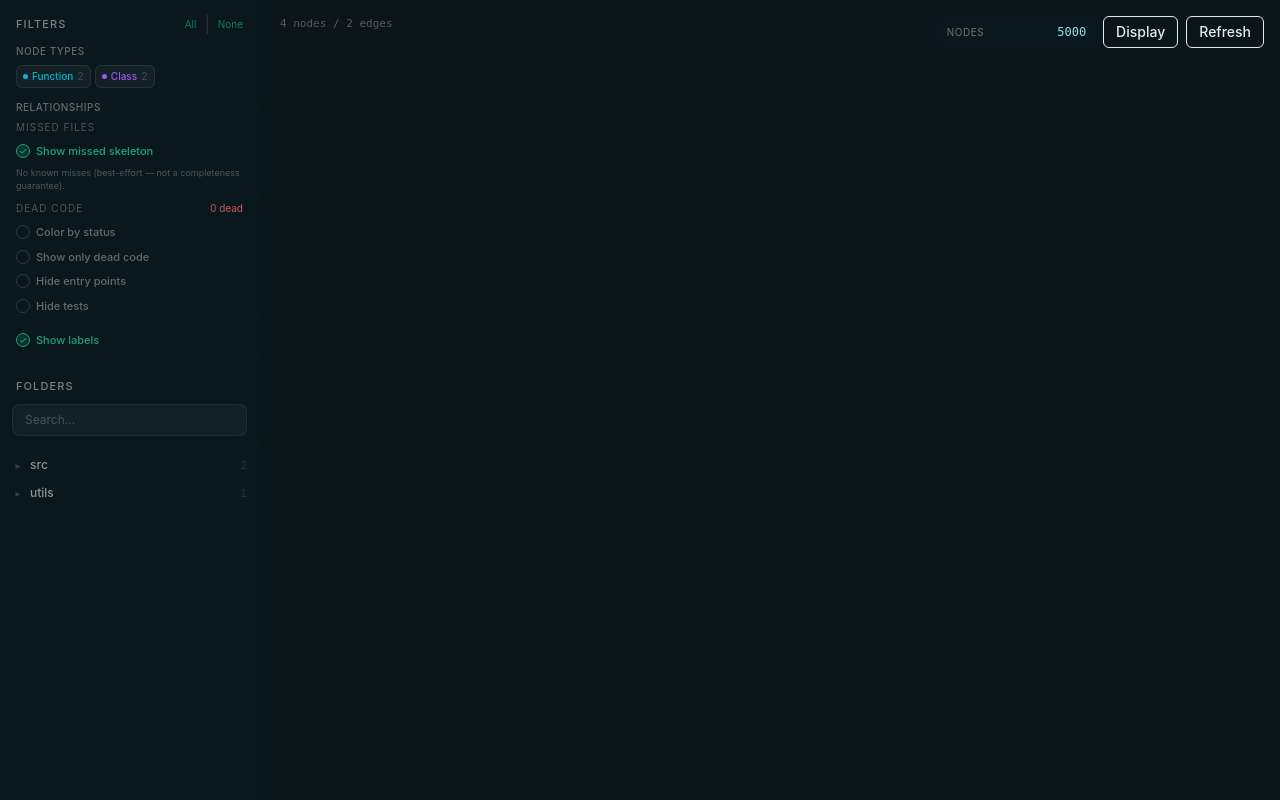
GraphTab selection › opens the detail panel when a leaf node is clicked in the file tree
Expected: the text "Filters" is shown, x1=16 y1=16 x2=66 y2=32
Click the button "▸ src 2".
click(130, 465)  # box x1=0 y1=451 x2=259 y2=479
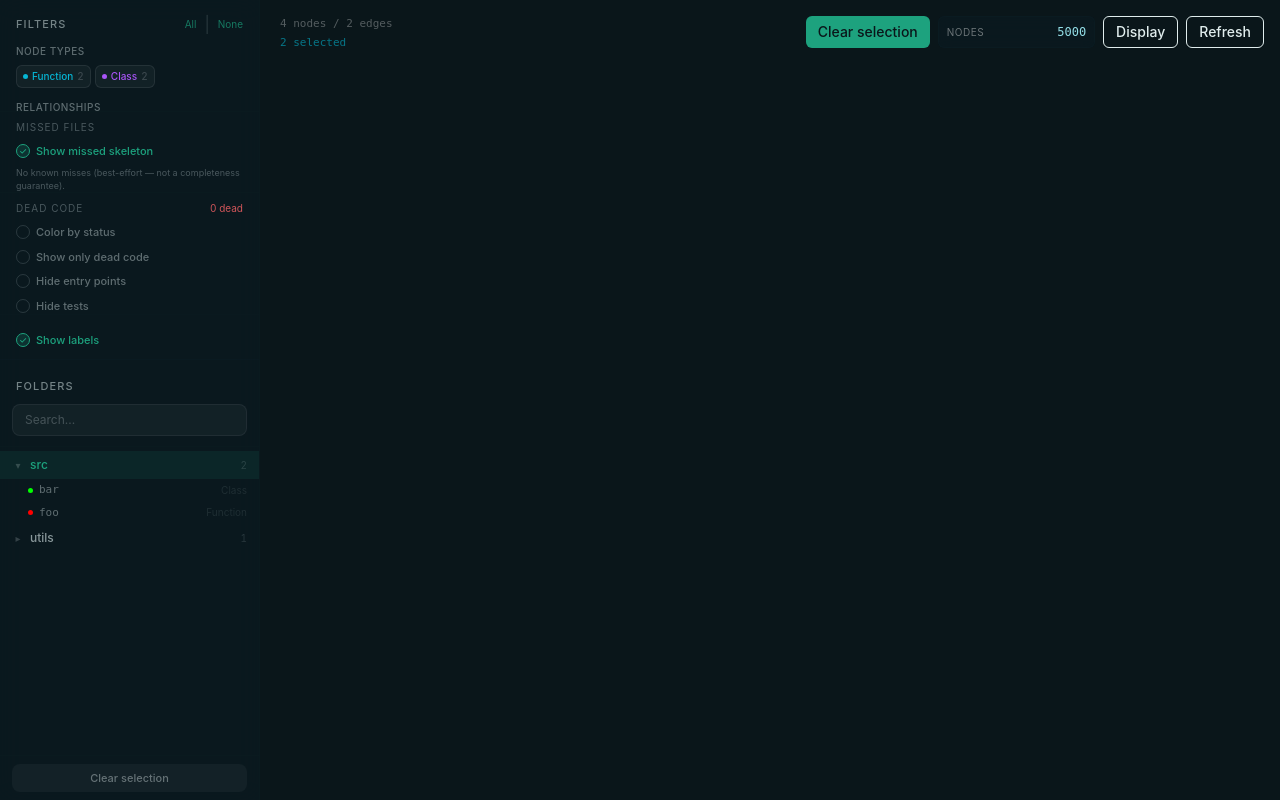
Click the button "foo Function".
click(130, 513)  # box x1=0 y1=502 x2=259 y2=524
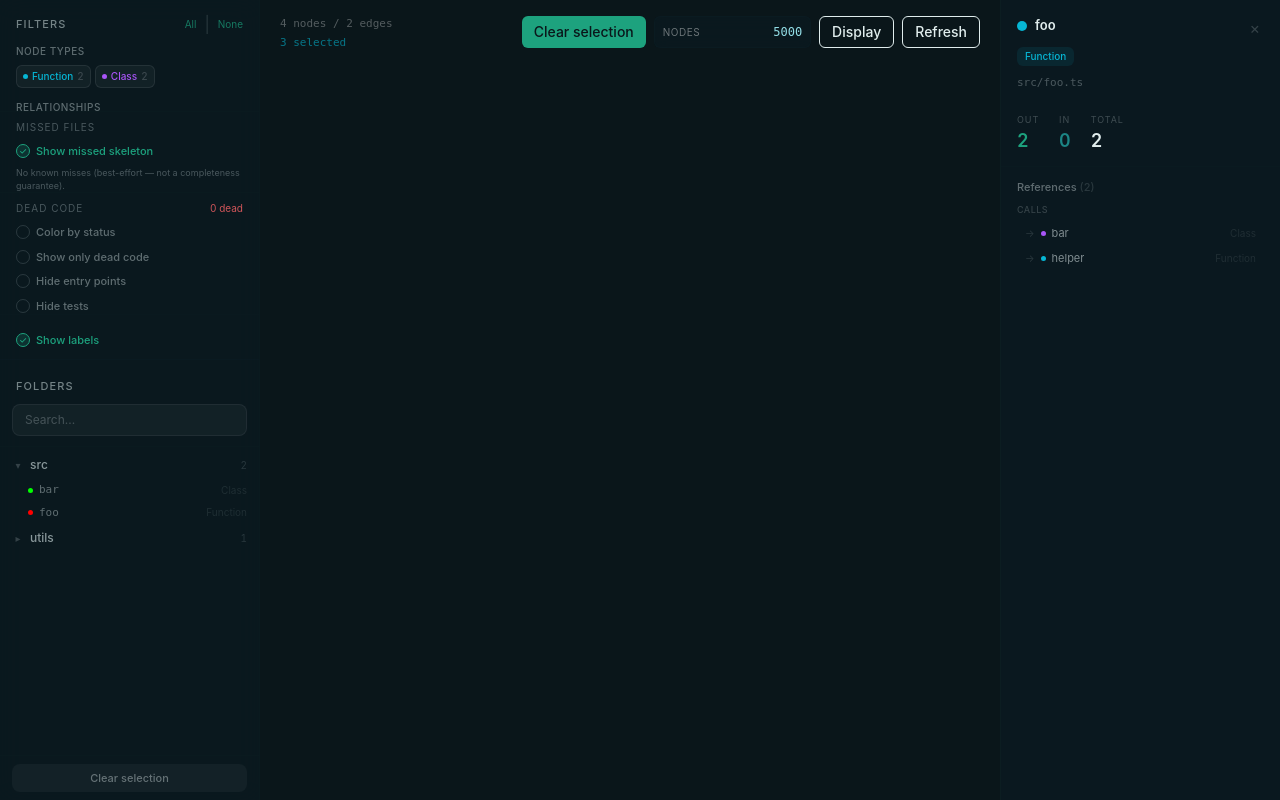
Expected: the heading "foo" is shown, x1=1035 y1=16 x2=1056 y2=36
